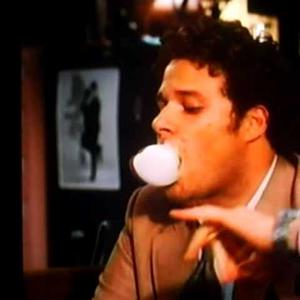smoke: (129, 147, 181, 181)
